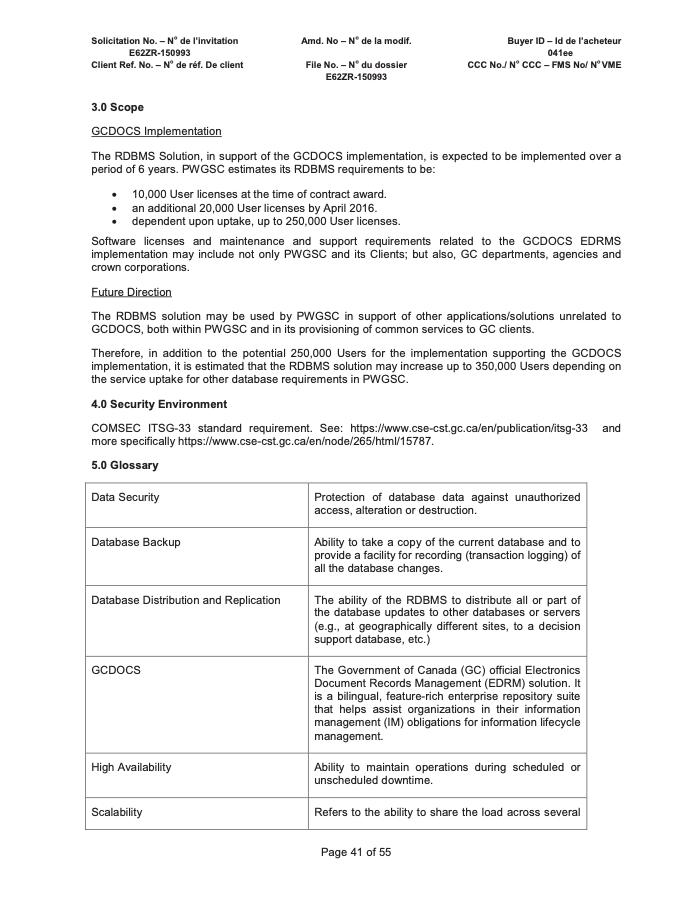cell: (310, 659, 587, 755), (85, 658, 310, 754), (309, 585, 588, 659), (310, 530, 588, 588), (85, 587, 309, 658), (310, 480, 589, 531), (311, 753, 588, 800), (84, 530, 310, 587), (83, 480, 311, 531), (84, 755, 310, 800), (308, 800, 587, 830), (86, 799, 308, 830)
tabulation: (77, 474, 591, 836)
